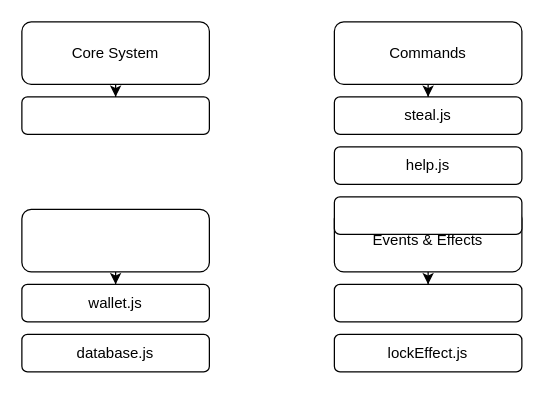
Some shapes in this 544 by 394 pixel diagram are drawn without their labels. The centre of each missing label's shape, as x and y in pixels:
beforeSteal.js: (x=427, y=302)
daily.js: (x=427, y=215)
index.js: (x=115, y=115)
Utilities: (x=115, y=240)
